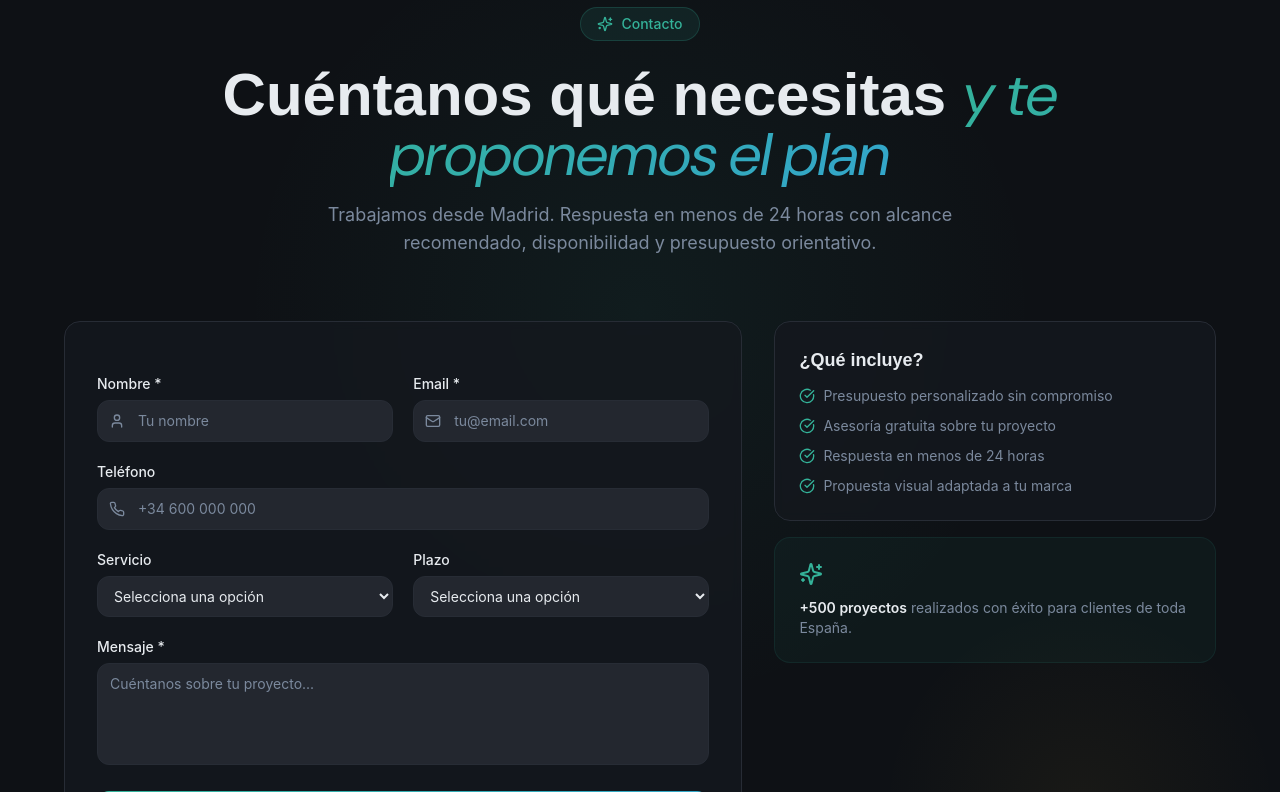
Test: contact persistence gate › uses the persisted ID for the real success event
Type "Ana Costa" into the field labelled "Nombre *" at (245,421), box [97,400,393,442]
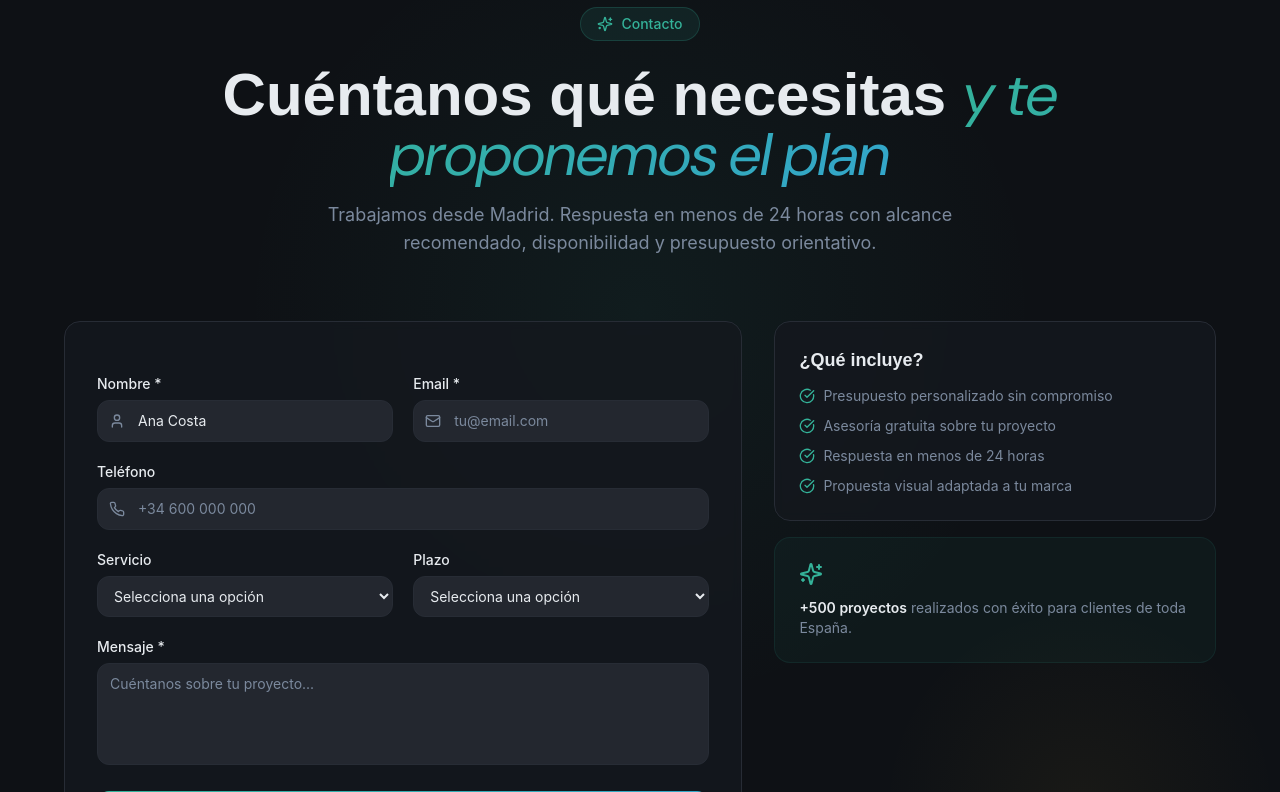
Type "ana@example.com" into the field labelled "Email *" at (561,421), box [413,400,709,442]
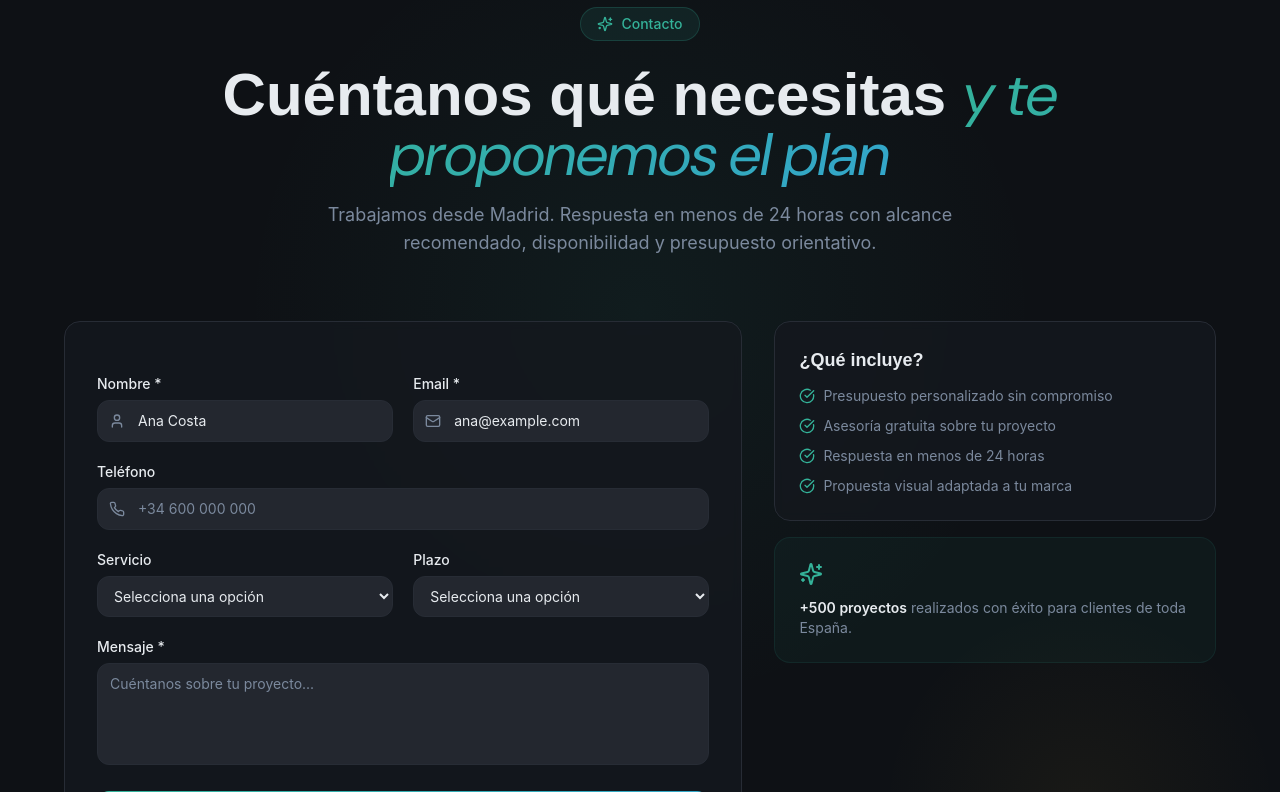
Type "Fotografía para mi vivienda" into the text box with placeholder "Cuéntanos sobre tu proyecto..." at (403,714), box [97,663,709,765]
(page scrolled)
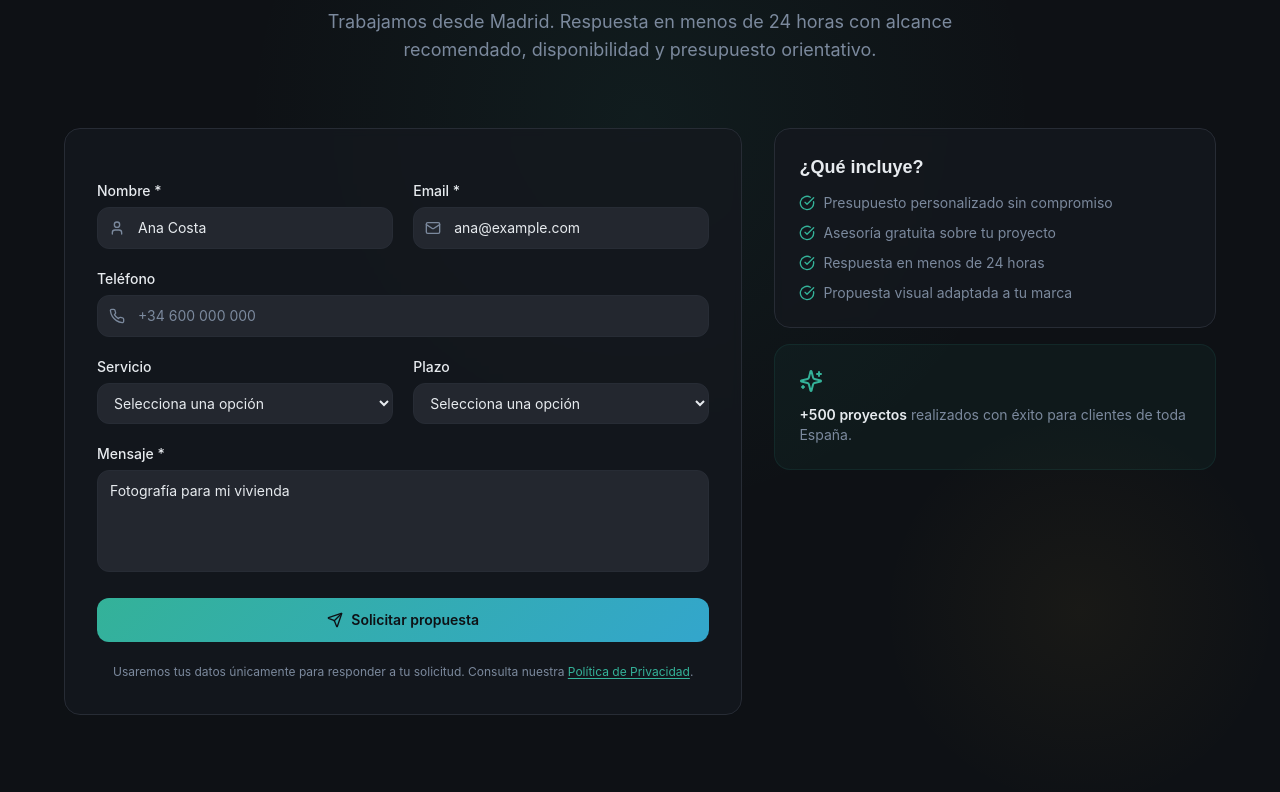
Click the button "Solicitar propuesta" at (403,620), box [97,598,709,642]
(page scrolled)
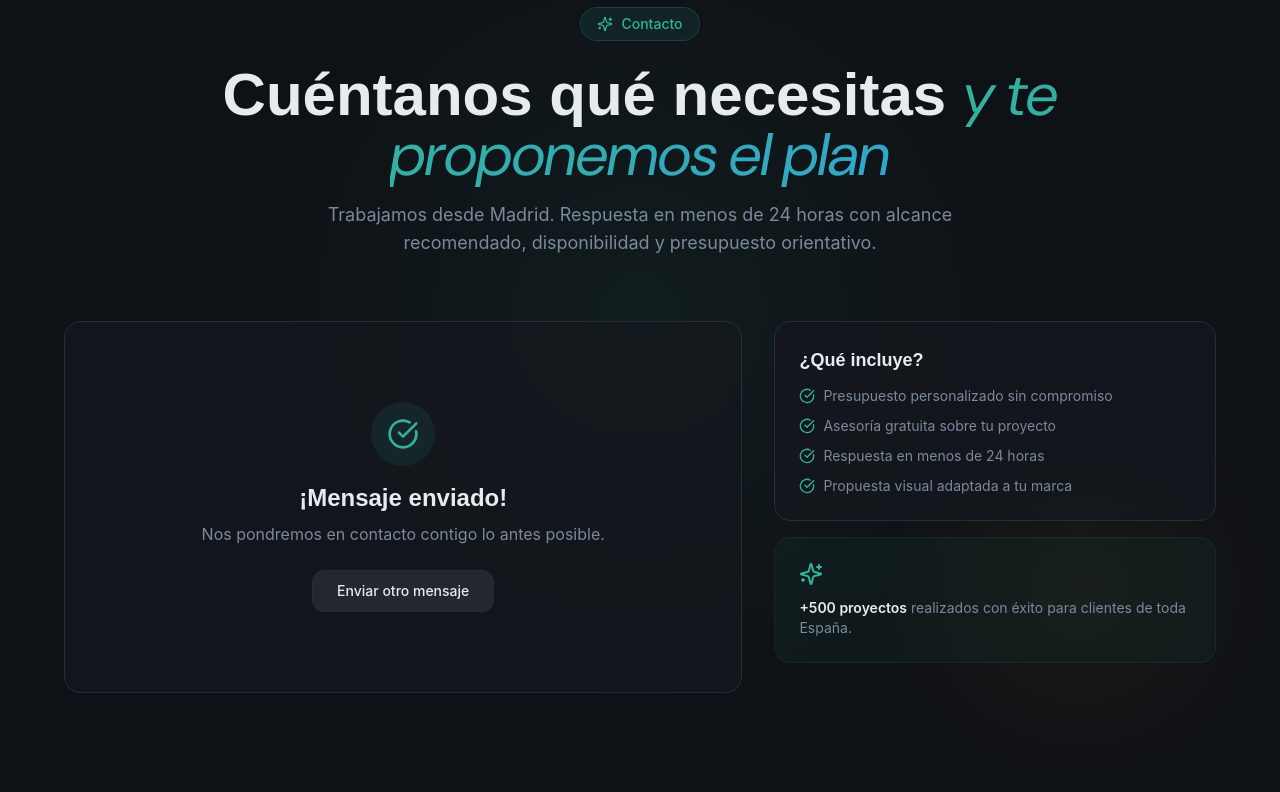
Check: the heading "¡Mensaje enviado!" is shown, box [299,484,507,511]
